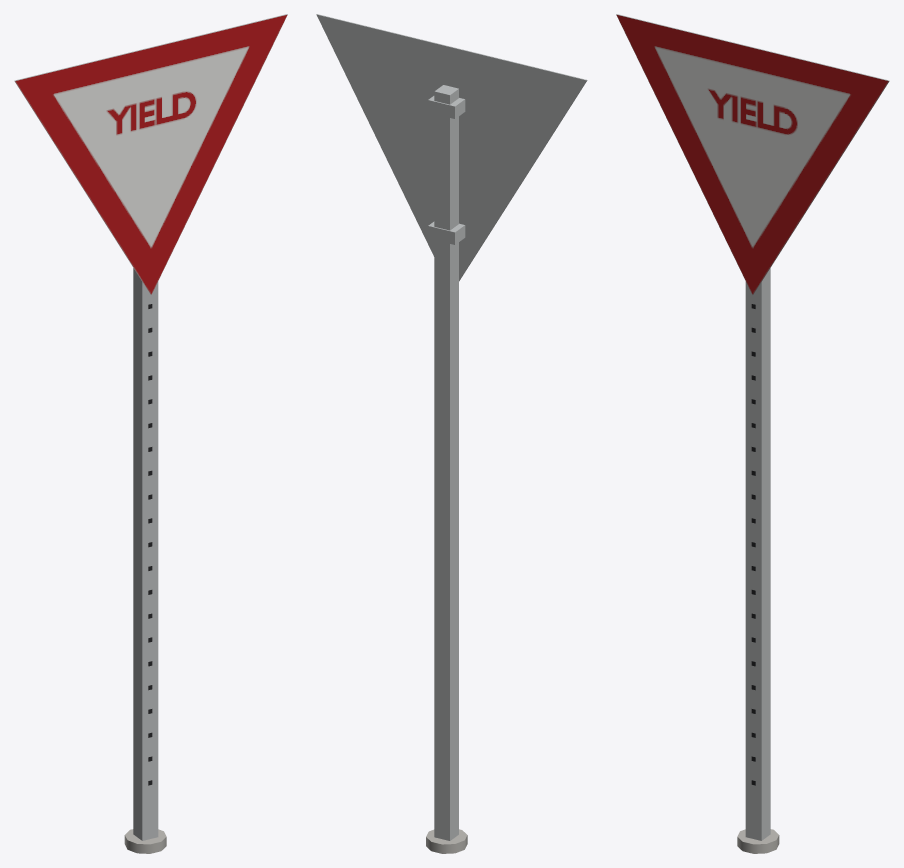
File: yield_sign.glb
3 renders of one model, left to right at view 1: azimuth 30°, elevation 25°; view 2: azimuth 150°, elevation 25°; view 3: azimuth 330°, elevation 25°, orthographic.
Visible parts, largest first — view 1: yield_sign_body; view 2: yield_sign_body; view 3: yield_sign_body.
Part boxes in pixels (left/top/right/bottom): yield_sign_body: left=14, top=14, right=287, bottom=853; yield_sign_body: left=316, top=14, right=587, bottom=853; yield_sign_body: left=616, top=14, right=889, bottom=853.
Bounding box in the file's own units: 0.045 × 0.1262 × 0.00571.
2 materials, 2 textured.
